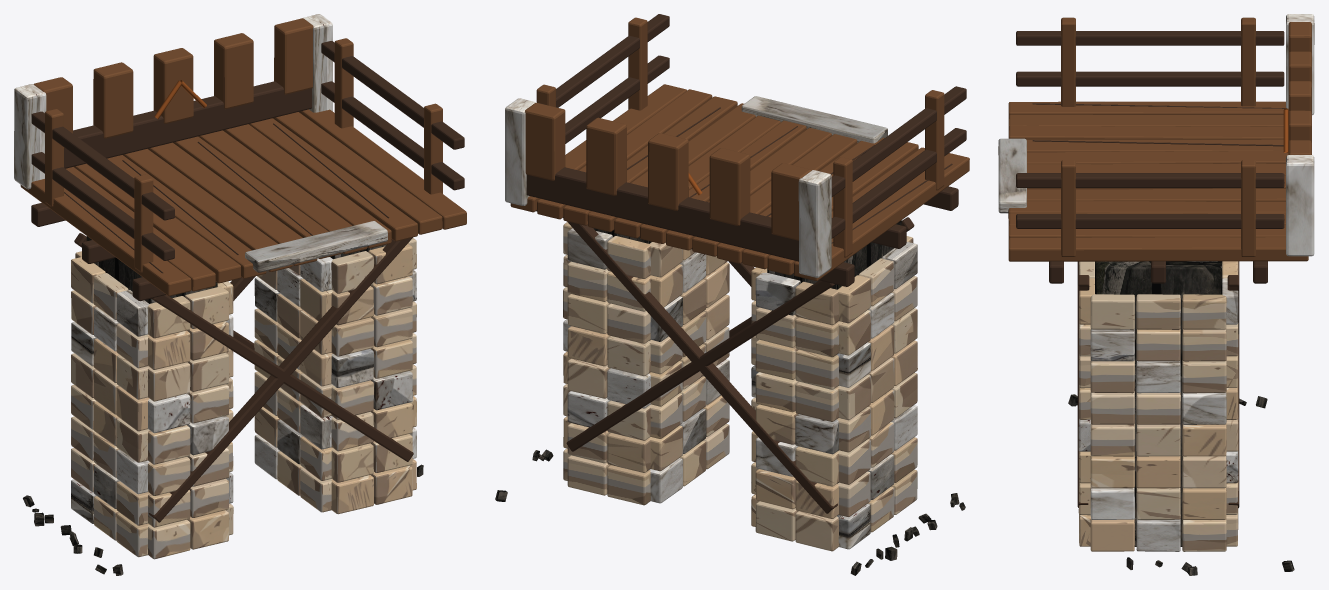
File: archer_platform_high_4m_LOD0.glb
3 views of the same model, side by side, from view 1: azimuth 30°, elevation 25°; view 2: azimuth 150°, elevation 25°; view 3: azimuth 270°, elevation 25° (orthographic). The views are drawn at different scales.
Visible parts, largest first — view 1: ArcherFrontLowerRail, TallPlatformBrace, ArcherDeckPlank, ArcherDeckPlank.010, ArcherDeckPlank.009, TallPlatformBrace.001, ArcherDeckPlank.011, ArcherDeckPlank.008, ArcherDeckPlank.004, ArcherDeckPlank.005, ArcherDeckPlank.006, ArcherAccessThreshold (+93 smaller); view 2: ArcherFrontLowerRail, TallPlatformBrace.002, ArcherDeckPlank, TallPlatformBrace.003, ArcherMarbleEndPost, ArcherFrontMerlon.001, ArcherFrontMerlon.003, ArcherFrontMerlon.002, ArcherFrontMerlon.004, ArcherAccessThreshold, ArcherDeckPlank.010, ArcherSideRail.001 (+92 smaller); view 3: ArcherDeckPlank.011, ArcherPierHeart.001, ArcherDeckPlank.002, ArcherSideRail, ArcherSideRail.002, ArcherSideRail.001, ArcherSideRail.003, ArcherDeckPlank, ArcherDeckPlank.004, ArcherDeckPlank.001, ArcherDeckPlank.003, ArcherDeckPlank.008 (+49 smaller).
Part boxes in pixels (x1=…): ArcherFrontLowerRail: x1=64, y1=81, x2=311, y2=168; TallPlatformBrace: x1=148, y1=237, x2=412, y2=522; ArcherDeckPlank: x1=20, y1=179, x2=191, y2=296; ArcherDeckPlank.010: x1=273, y1=112, x2=442, y2=234; ArcherDeckPlank.009: x1=249, y1=118, x2=417, y2=241; TallPlatformBrace.001: x1=151, y1=295, x2=413, y2=461; ArcherDeckPlank.011: x1=299, y1=109, x2=466, y2=229; ArcherDeckPlank.008: x1=223, y1=124, x2=391, y2=248; ArcherDeckPlank.004: x1=123, y1=149, x2=292, y2=271; ArcherDeckPlank.005: x1=147, y1=142, x2=317, y2=265; ArcherDeckPlank.006: x1=173, y1=136, x2=341, y2=258; ArcherAccessThreshold: x1=245, y1=221, x2=387, y2=272; ArcherFrontLowerRail: x1=526, y1=167, x2=798, y2=261; TallPlatformBrace.002: x1=567, y1=221, x2=837, y2=513; ArcherDeckPlank: x1=794, y1=153, x2=969, y2=280; TallPlatformBrace.003: x1=566, y1=280, x2=834, y2=451; ArcherMarbleEndPost: x1=798, y1=170, x2=831, y2=277; ArcherFrontMerlon.001: x1=709, y1=148, x2=750, y2=225; ArcherFrontMerlon.003: x1=586, y1=117, x2=626, y2=195; ArcherFrontMerlon.002: x1=648, y1=133, x2=688, y2=210; ArcherFrontMerlon.004: x1=525, y1=103, x2=565, y2=180; ArcherAccessThreshold: x1=741, y1=96, x2=887, y2=143; ArcherDeckPlank.010: x1=537, y1=89, x2=712, y2=219; ArcherSideRail.001: x1=831, y1=86, x2=966, y2=196; ArcherDeckPlank.011: x1=1008, y1=237, x2=1308, y2=261; ArcherPierHeart.001: x1=1095, y1=261, x2=1222, y2=546; ArcherDeckPlank.002: x1=1008, y1=125, x2=1283, y2=139; ArcherSideRail: x1=1016, y1=71, x2=1284, y2=86; ArcherSideRail.002: x1=1016, y1=214, x2=1284, y2=228; ArcherSideRail.001: x1=1016, y1=31, x2=1284, y2=45; ArcherSideRail.003: x1=1016, y1=173, x2=1284, y2=187; ArcherDeckPlank: x1=1008, y1=101, x2=1288, y2=116; ArcherDeckPlank.004: x1=1027, y1=150, x2=1288, y2=164; ArcherDeckPlank.001: x1=1008, y1=115, x2=1283, y2=126; ArcherDeckPlank.003: x1=1026, y1=139, x2=1283, y2=152; ArcherDeckPlank.008: x1=1008, y1=201, x2=1285, y2=218.
Size of the model in its own units: 5.15 by 5.33 by 3.79.
Materials: 6 (3 with a texture image).
